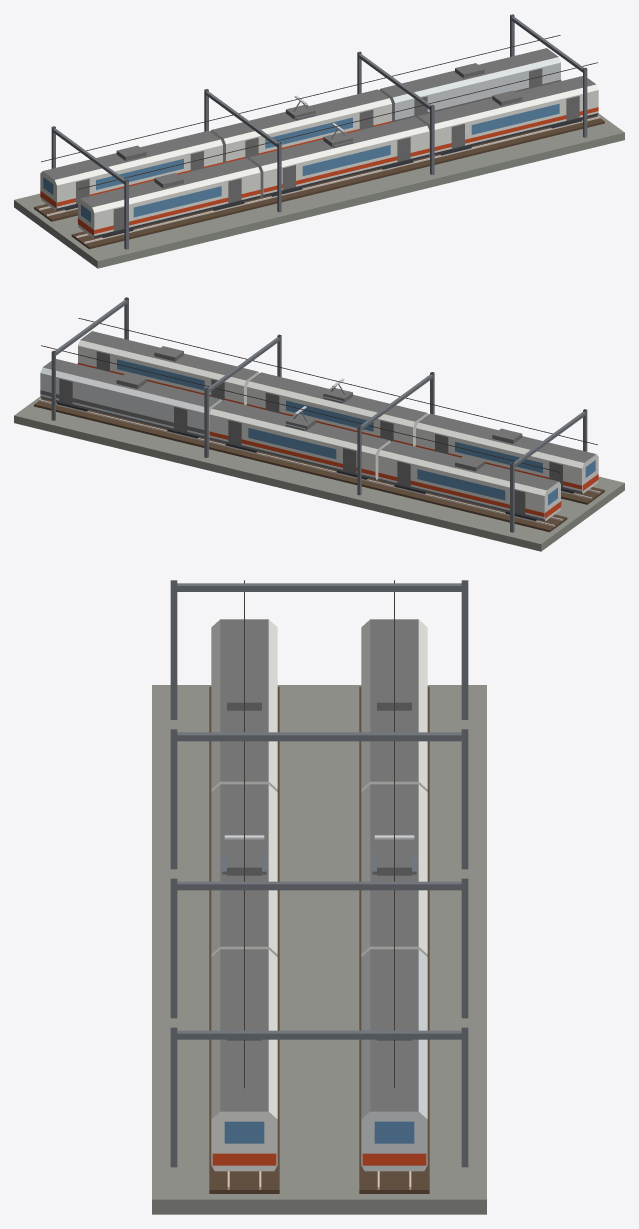
Rendered from mashup-yard-top-prebuilt.fbx.
3 renders of one model, top to bottom at view 1: azimuth 30°, elevation 25°; view 2: azimuth 150°, elevation 25°; view 3: azimuth 270°, elevation 25°, orthographic. The views are drawn at different scales.
Parts seen in each view (by area): view 1: a1082/0/mashup-yard-top-prebuilt; view 2: a1082/0/mashup-yard-top-prebuilt; view 3: a1082/0/mashup-yard-top-prebuilt.
Boxes of the visible parts, x1,y1,x2,y2 form: a1082/0/mashup-yard-top-prebuilt: [14, 14, 624, 268]; a1082/0/mashup-yard-top-prebuilt: [14, 297, 624, 551]; a1082/0/mashup-yard-top-prebuilt: [152, 580, 486, 1214].
Bounding box in the file's own units: 55.2 × 7.6 × 15.2.
